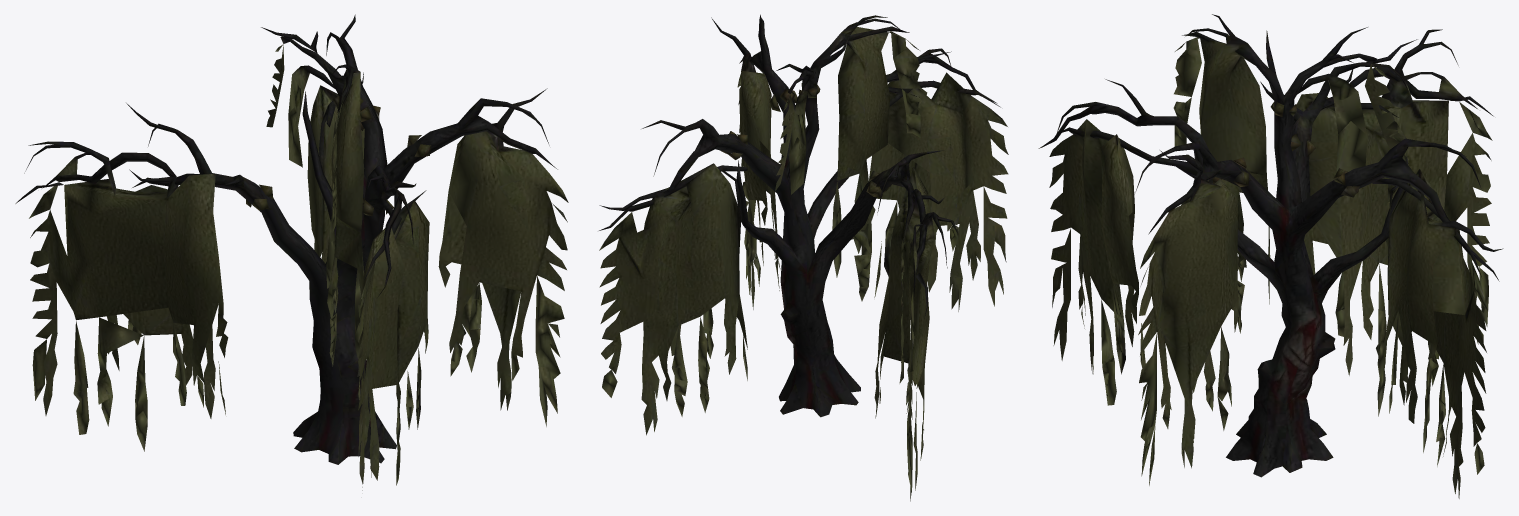
The model's file is prop_node_bleeding_willow.glb.
The picture shows the model from 3 angles, left to right: view 1: azimuth 30°, elevation 25°; view 2: azimuth 150°, elevation 25°; view 3: azimuth 270°, elevation 25°; orthographic projection. The views are drawn at different scales.
Parts seen in each view (by area): view 1: tripo_node_fb8bdfce-c053-4383-9b43-513c3f24121a; view 2: tripo_node_fb8bdfce-c053-4383-9b43-513c3f24121a; view 3: tripo_node_fb8bdfce-c053-4383-9b43-513c3f24121a.
Boxes of the visible parts, bbox=[...] form: tripo_node_fb8bdfce-c053-4383-9b43-513c3f24121a: bbox=[15, 14, 568, 490]; tripo_node_fb8bdfce-c053-4383-9b43-513c3f24121a: bbox=[599, 14, 1008, 501]; tripo_node_fb8bdfce-c053-4383-9b43-513c3f24121a: bbox=[1038, 14, 1503, 498].
Bounding box in the file's own units: 0.998 × 0.998 × 0.998.
1 material, 1 textured.
